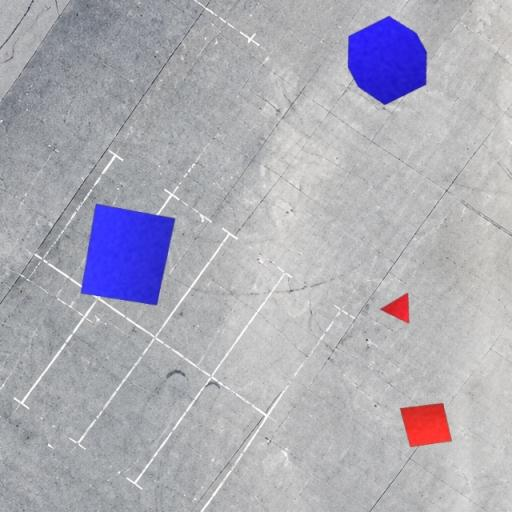BLUE_SQUARE: (80, 204, 176, 306)
RED_SQUARE: (399, 402, 452, 448)
